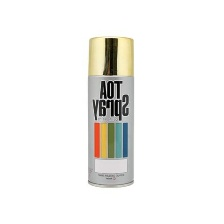aerosol_cans: (85, 30, 138, 190)
